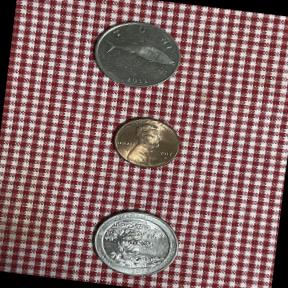Croatia-2Kune-B: (79, 10, 194, 101)
US-1cent-B: (102, 110, 190, 176)
US-25cent-B: (81, 198, 191, 287)
